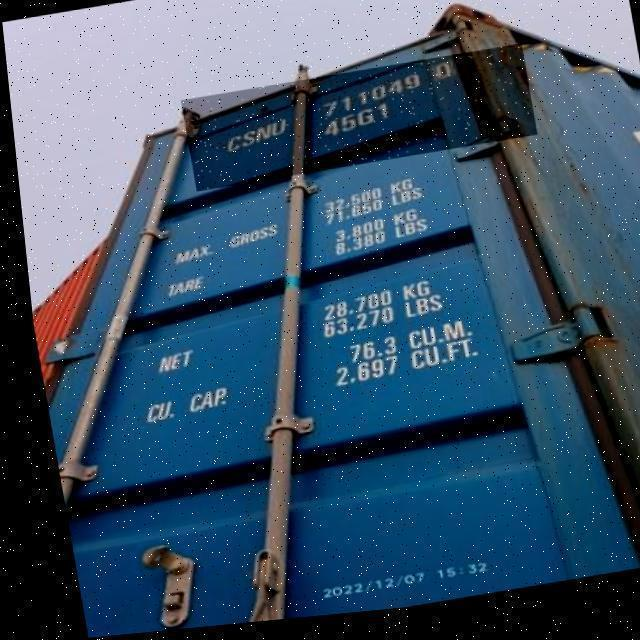ISO: (324, 95, 398, 143)
container_number: (223, 39, 454, 157)
